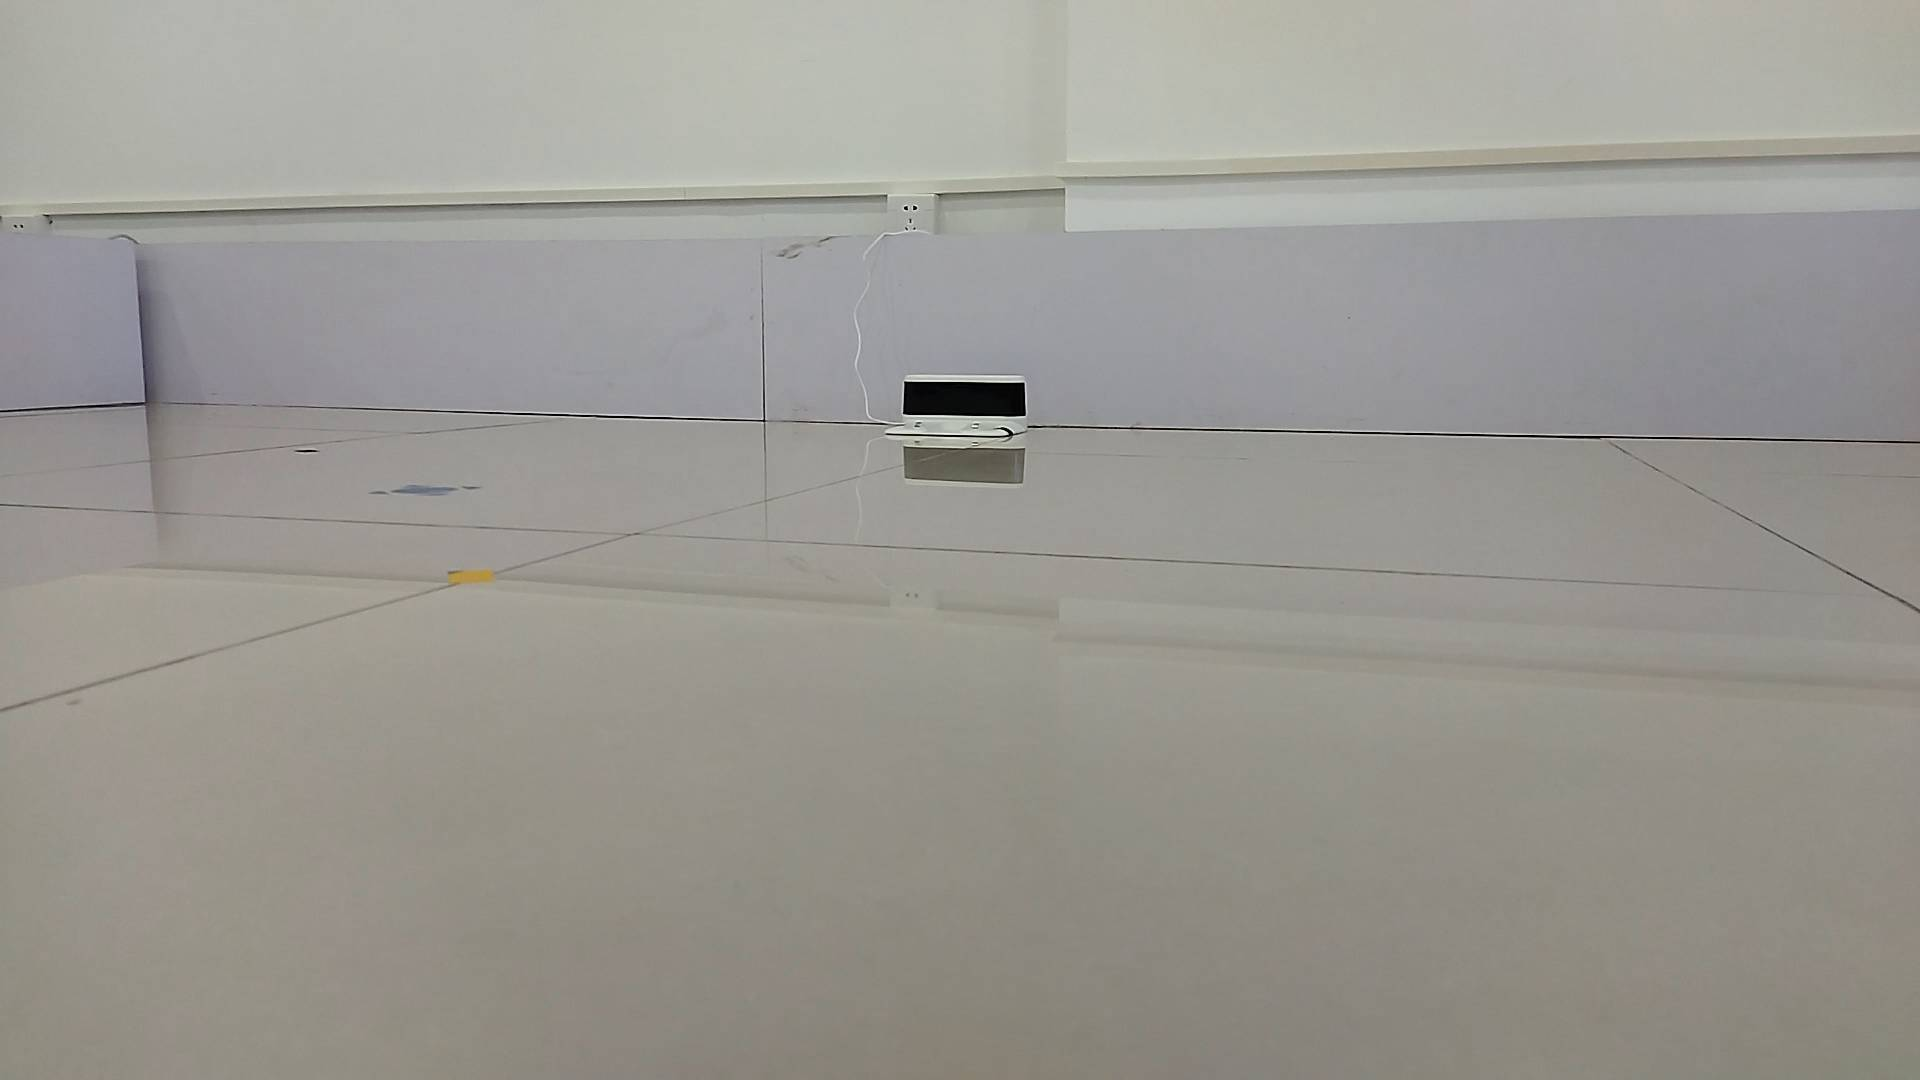recharge seat: (884, 375, 1034, 440)
